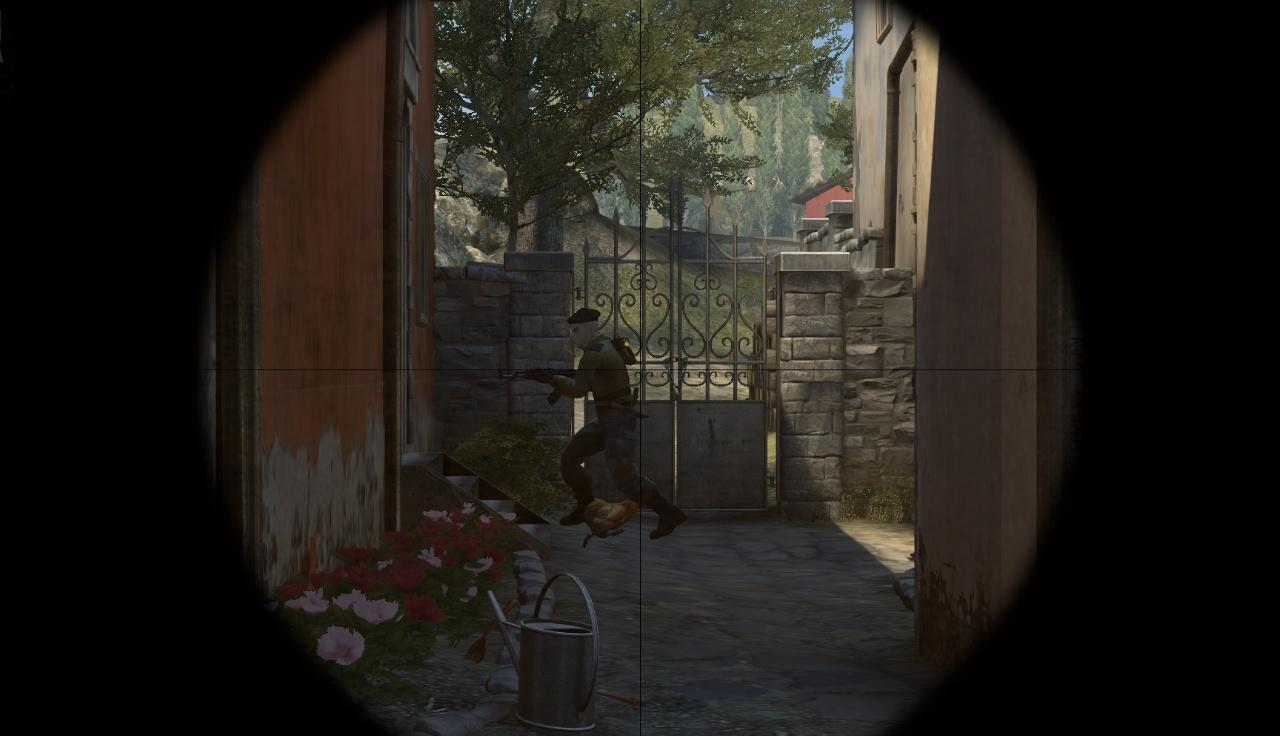tt: (527, 308, 681, 541)
tthead: (568, 309, 599, 347)
